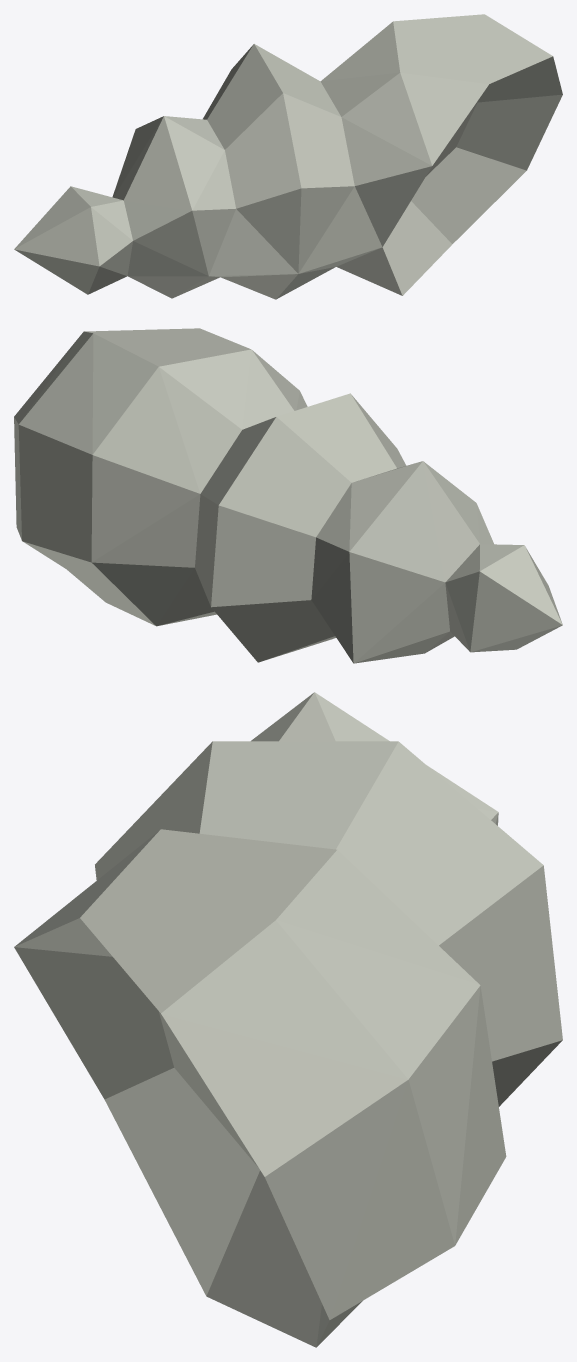
File: Conch_tex.fbx
3 renders of one model, top to bottom at view 1: azimuth 30°, elevation 25°; view 2: azimuth 150°, elevation 25°; view 3: azimuth 270°, elevation 25°, orthographic. The views are drawn at different scales.
Visible parts, largest first — view 1: Conch_tex; view 2: Conch_tex; view 3: Conch_tex.
Part boxes in pixels (x1,y1,x2,y2): Conch_tex: (14,14,562,299); Conch_tex: (14,328,562,663); Conch_tex: (14,692,562,1347).
Bounding box in the file's own units: 0.5398 × 0.24 × 0.2537.
